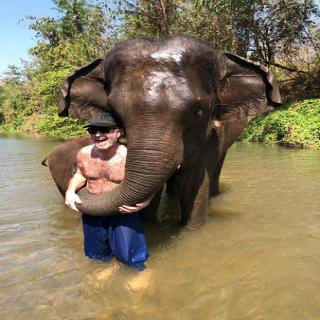Elephant: (42, 34, 287, 233)
